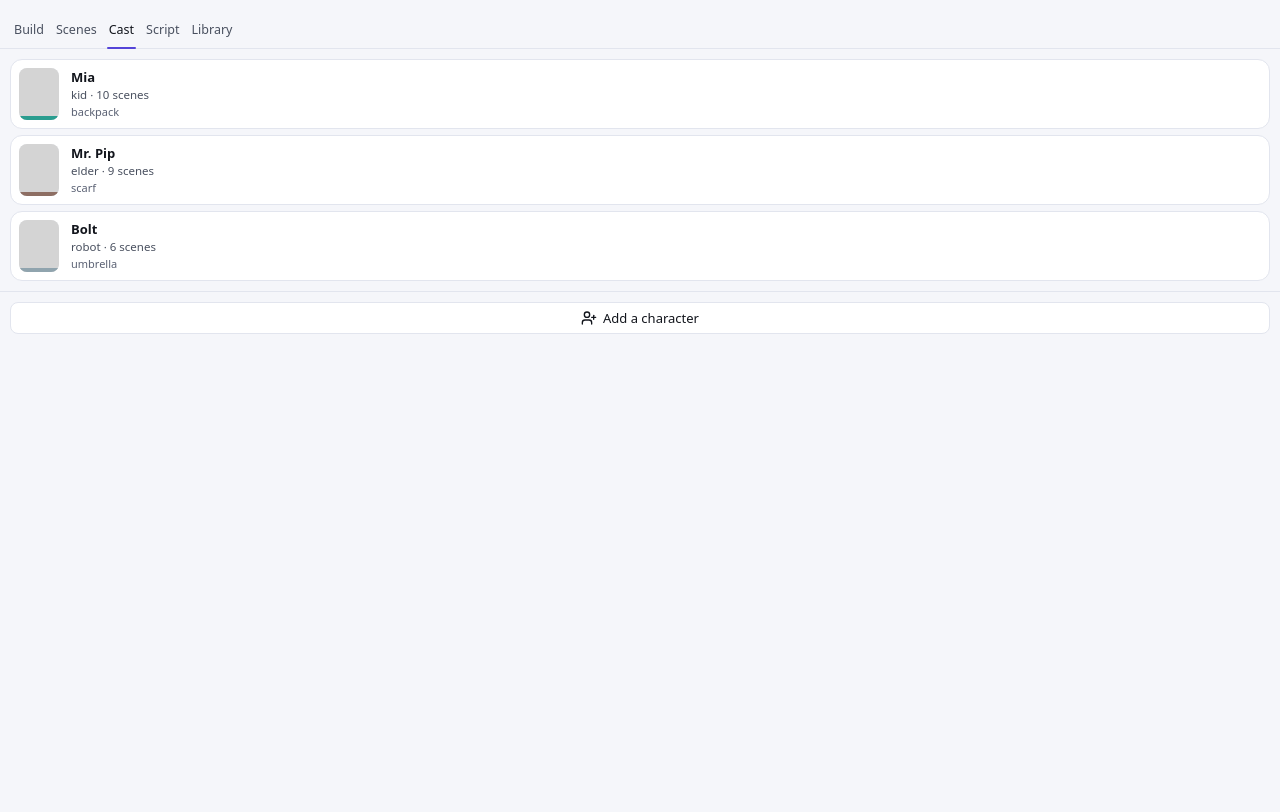
Test case: adding a character › offers the engine’s bodies and, under their own heading, the pictures of the library
Click the button "Add a character". click: (640, 318)
box: x1=10 y1=302 x2=1270 y2=334
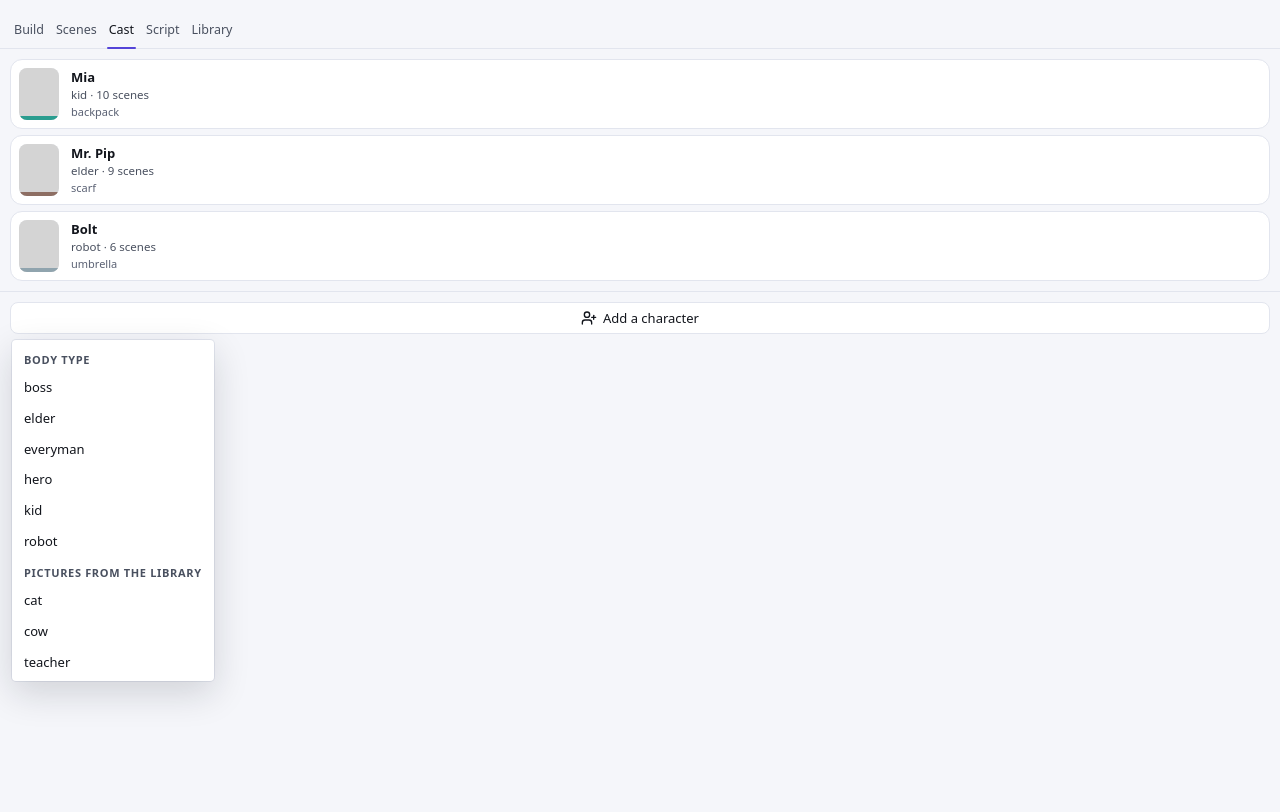
Check: the text "Body type" is shown, box x1=24 y1=352 x2=90 y2=367
Check: the text "Pictures from the library" is shown, box x1=24 y1=565 x2=202 y2=580
